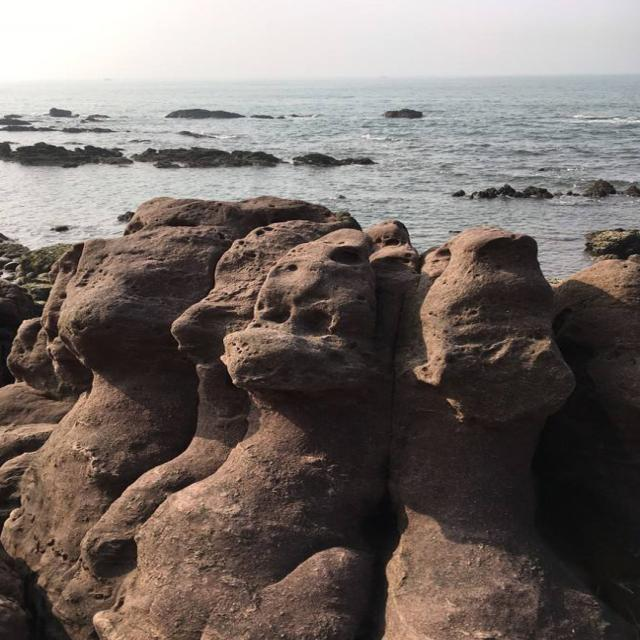reef: (13, 104, 446, 172), (405, 167, 640, 212)
